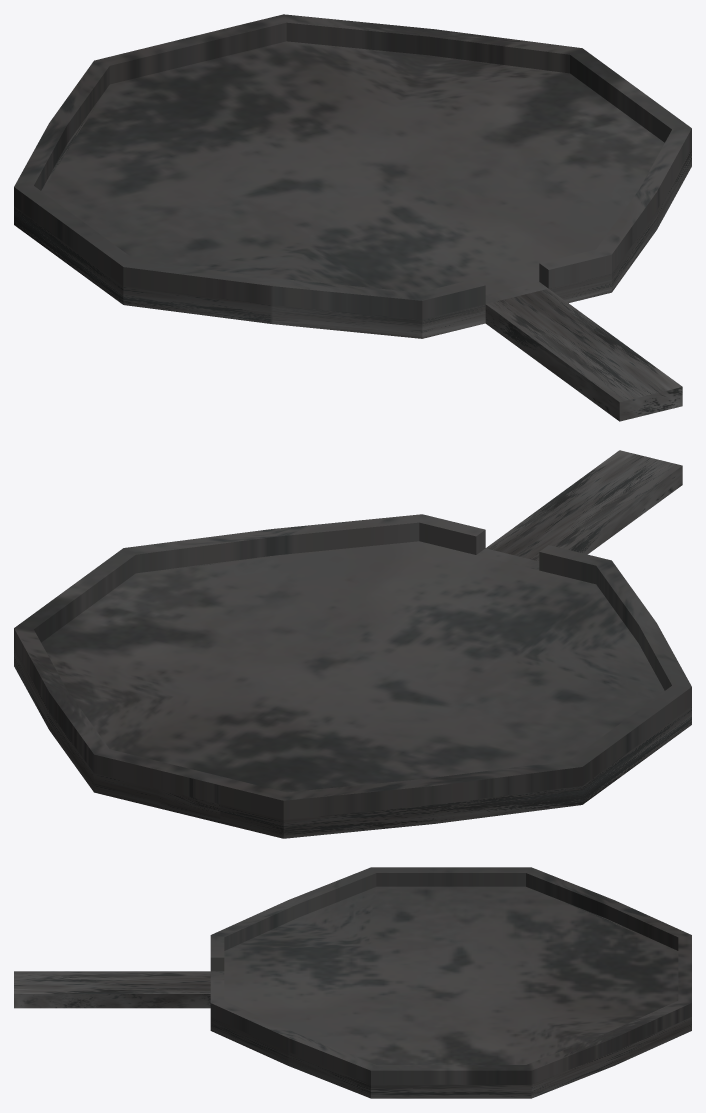
File: arenaboss.fbx
3 views of the same model, one above another, from view 1: azimuth 30°, elevation 25°; view 2: azimuth 150°, elevation 25°; view 3: azimuth 270°, elevation 25° (orthographic). The views are drawn at different scales.
Parts seen in each view (by area): view 1: Cube; view 2: Cube; view 3: Cube.
Part boxes in pixels (x1,y1,x2,y2): Cube: (14, 14, 691, 421); Cube: (14, 450, 691, 838); Cube: (14, 867, 691, 1098).
Bounding box in the file's own units: 3196 × 204 × 4501.
Materials: 1 (1 with a texture image).
